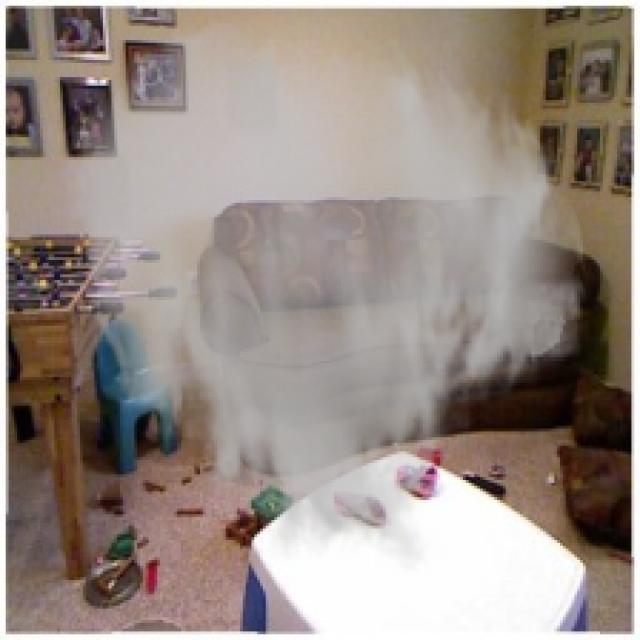Smoke: (59, 17, 592, 574)
